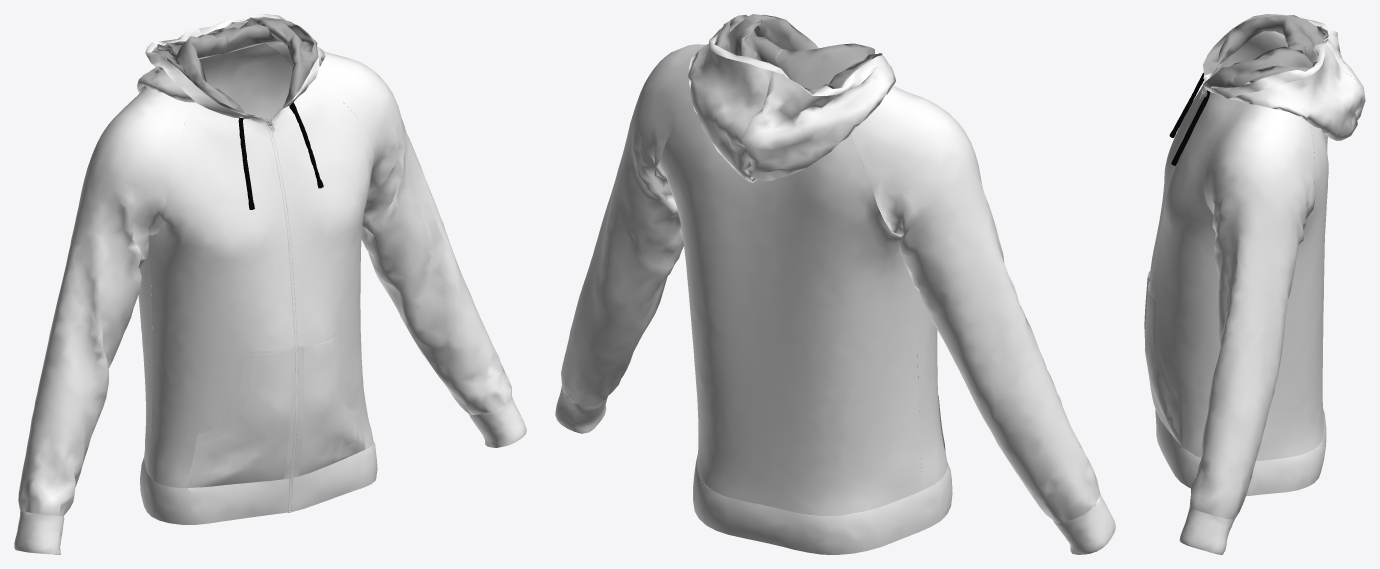
Rendered from Felpa WALLABY.draco.glb.
3 renders of one model, left to right at view 1: azimuth 30°, elevation 25°; view 2: azimuth 150°, elevation 25°; view 3: azimuth 270°, elevation 25°, orthographic. The views are drawn at different scales.
Visible parts, largest first — view 1: FELPA WALLABY.FRONT DX, FELPA WALLABY.MANICA DX, FELPA WALLABY.MANICA SX, FELPA WALLABY.FRONT SX, FELPA WALLABY.TASCA DX, FELPA WALLABY.FASCIA, FELPA WALLABY.TASCA SX, FELPA WALLABY.RETRO, FELPA WALLABY.CAPP INT SX, FELPA WALLABY.CAPP EST DX, FELPA WALLABY.CAPP INT DX, FELPA WALLABY.POLSO DX (+6 smaller); view 2: FELPA WALLABY.RETRO, FELPA WALLABY.MANICA DX, FELPA WALLABY.MANICA SX, FELPA WALLABY.FASCIA, FELPA WALLABY.CAPP EST DX, FELPA WALLABY.CAPP EST SX, FELPA WALLABY.FRONT DX, FELPA WALLABY.CAPP INT DX, FELPA WALLABY.CAPP INT SX, FELPA WALLABY.POLSO DX, FELPA WALLABY.POLSO SX; view 3: FELPA WALLABY.MANICA SX, FELPA WALLABY.FRONT SX, FELPA WALLABY.RETRO, FELPA WALLABY.CAPP EST SX, FELPA WALLABY.FASCIA, FELPA WALLABY.CAPP INT DX, FELPA WALLABY.CAPP INT SX, FELPA WALLABY.TASCA SX, FELPA WALLABY.POLSO SX, FELPA WALLABY.MANICA DX, FELPA WALLABY.FRONT DX, FELPA WALLABY.CAPP EST DX (+1 smaller).
Boxes of the visible parts, bbox=[...] form: FELPA WALLABY.FRONT DX: bbox=[148, 102, 295, 488]; FELPA WALLABY.MANICA DX: bbox=[18, 87, 193, 516]; FELPA WALLABY.MANICA SX: bbox=[265, 41, 512, 414]; FELPA WALLABY.FRONT SX: bbox=[271, 79, 373, 467]; FELPA WALLABY.TASCA DX: bbox=[186, 347, 295, 488]; FELPA WALLABY.FASCIA: bbox=[140, 420, 377, 524]; FELPA WALLABY.TASCA SX: bbox=[293, 335, 365, 477]; FELPA WALLABY.RETRO: bbox=[138, 43, 298, 473]; FELPA WALLABY.CAPP INT SX: bbox=[205, 16, 318, 107]; FELPA WALLABY.CAPP EST DX: bbox=[137, 28, 256, 119]; FELPA WALLABY.CAPP INT DX: bbox=[151, 32, 254, 116]; FELPA WALLABY.POLSO DX: bbox=[14, 510, 64, 554]; FELPA WALLABY.RETRO: bbox=[660, 99, 923, 516]; FELPA WALLABY.MANICA DX: bbox=[851, 86, 1099, 523]; FELPA WALLABY.MANICA SX: bbox=[561, 44, 705, 406]; FELPA WALLABY.FASCIA: bbox=[693, 454, 952, 554]; FELPA WALLABY.CAPP EST DX: bbox=[741, 50, 895, 181]; FELPA WALLABY.CAPP EST SX: bbox=[688, 27, 780, 182]; FELPA WALLABY.FRONT DX: bbox=[916, 288, 947, 489]; FELPA WALLABY.CAPP INT DX: bbox=[749, 43, 882, 123]; FELPA WALLABY.CAPP INT SX: bbox=[715, 14, 818, 131]; FELPA WALLABY.POLSO DX: bbox=[1052, 492, 1115, 554]; FELPA WALLABY.POLSO SX: bbox=[555, 385, 607, 433]; FELPA WALLABY.MANICA SX: bbox=[1189, 101, 1315, 519]; FELPA WALLABY.FRONT SX: bbox=[1149, 88, 1238, 457]; FELPA WALLABY.RETRO: bbox=[1256, 124, 1328, 460]; FELPA WALLABY.CAPP EST SX: bbox=[1204, 43, 1364, 140]; FELPA WALLABY.FASCIA: bbox=[1155, 408, 1326, 496]; FELPA WALLABY.CAPP INT DX: bbox=[1203, 14, 1351, 76]; FELPA WALLABY.CAPP INT SX: bbox=[1203, 42, 1318, 87]; FELPA WALLABY.TASCA SX: bbox=[1144, 281, 1182, 446]; FELPA WALLABY.POLSO SX: bbox=[1179, 507, 1234, 554]; FELPA WALLABY.MANICA DX: bbox=[1212, 31, 1287, 102]; FELPA WALLABY.FRONT DX: bbox=[1149, 55, 1230, 278]; FELPA WALLABY.CAPP EST DX: bbox=[1204, 15, 1365, 119].
Size of the model in its own units: 82.12 by 70.65 by 33.43.
24 materials, 9 textured.
